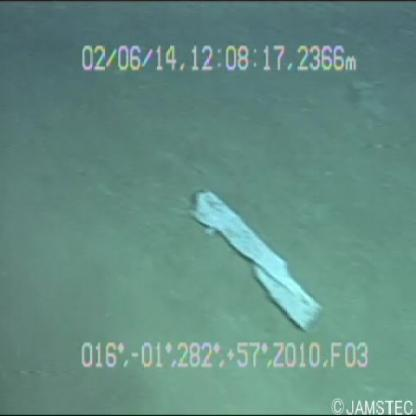Rác: (168, 170, 329, 326)
